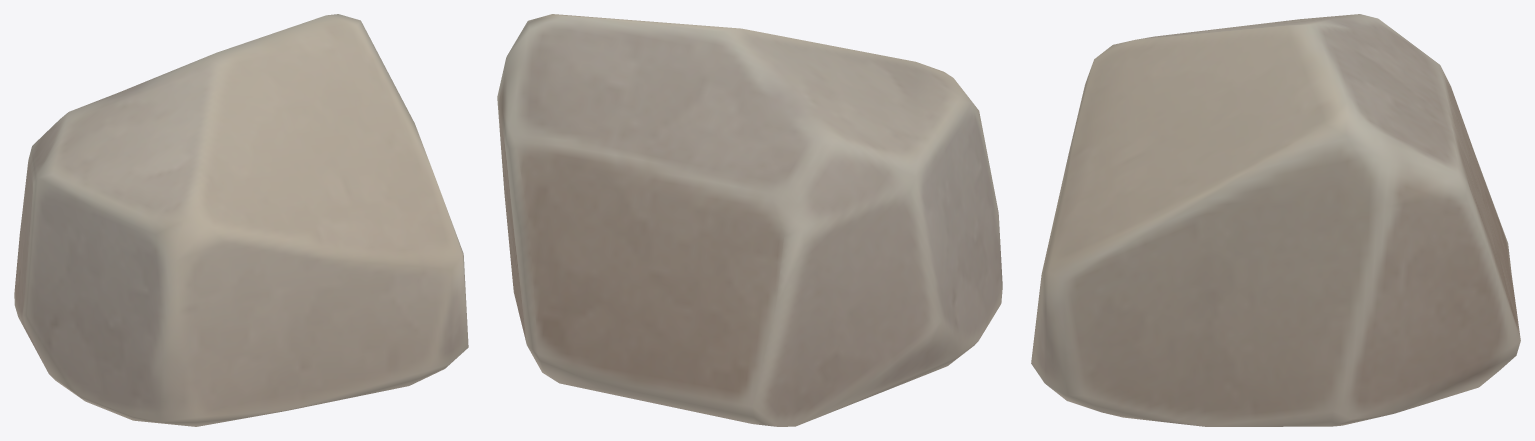
The model's file is rock4.glb.
3 renders of one model, left to right at view 1: azimuth 30°, elevation 25°; view 2: azimuth 150°, elevation 25°; view 3: azimuth 270°, elevation 25°, orthographic. The views are drawn at different scales.
Parts seen in each view (by area): view 1: Rock4; view 2: Rock4; view 3: Rock4.
Part boxes in pixels (box(x1,y1,x2,y2)): Rock4: box(14, 14, 468, 426); Rock4: box(497, 14, 1002, 426); Rock4: box(1031, 14, 1520, 426).
Size of the model in its own units: 0.4404 by 0.3139 by 0.4421.
1 material, 1 textured.
